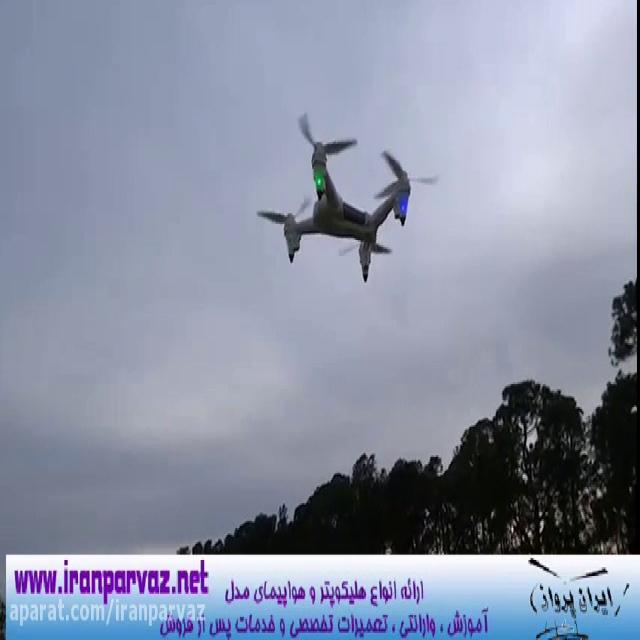drone: (254, 105, 442, 286)
